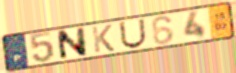4: (182, 8, 209, 41)
5: (27, 30, 56, 65)
6: (150, 14, 177, 46)
K: (90, 23, 116, 54)
N: (55, 25, 89, 61)
U: (118, 17, 148, 50)
